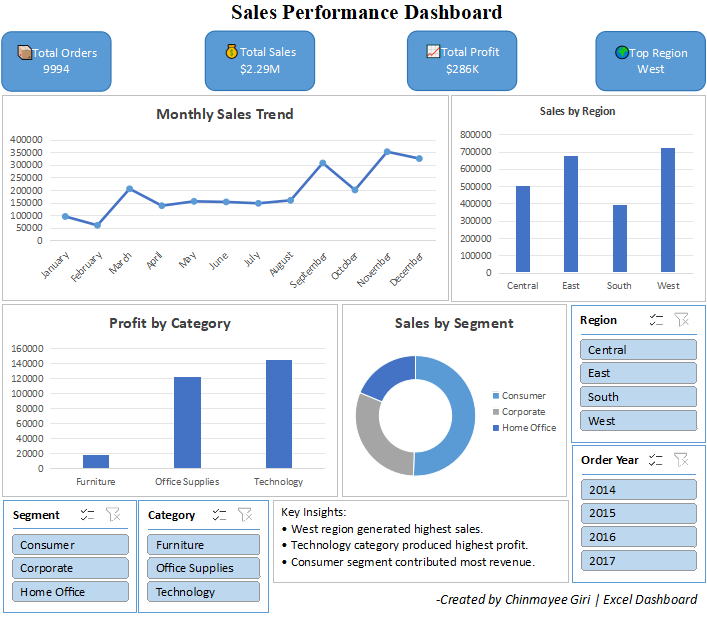

What the dashboard file says about the page in this screenshot:
{"tool":"powerbi","page":{"name":"Page 1","canvas":[1280,720],"ordinal":0},"visuals":[{"type":"card","fields":{"Values":["Sum(Sample - Superstore(NEW).Profit)"]},"box":[10,53.4,200,92],"z":0},{"type":"card","fields":{"Values":["Sum(Sample - Superstore(NEW).Sales)"]},"box":[464.5,53.1,200.3,92.9],"z":1000},{"type":"card","fields":{"Values":["CountNonNull(Sample - Superstore(NEW).Order_ID)"]},"box":[692.5,53.1,200.3,92.9],"z":2000},{"type":"card","fields":{"Values":["Sample - Superstore(NEW).Profit Margin"]},"box":[236.5,53.1,200.3,92.9],"z":3000},{"type":"lineChart","title":"Monthly Sales Trend","fields":{"Category":["Sample - Superstore(NEW).Order_Date.Variation.Date Hierarchy.Month"],"Y":["Sum(Sample - Superstore(NEW).Sales)"]},"box":[5,151.2,487.5,277],"z":4000},{"type":"clusteredBarChart","title":"Sales by Region","fields":{"Category":["Sample - Superstore(NEW).Region"],"Y":["Sum(Sample - Superstore(NEW).Sales)"]},"box":[897.5,330,377.5,205],"z":5000},{"type":"columnChart","title":"Profit by Category","fields":{"Category":["Sample - Superstore(NEW).Category"],"Y":["Sum(Sample - Superstore(NEW).Profit)"]},"box":[896.4,54.3,377,271],"z":6000},{"type":"donutChart","title":"Sales by Segment","fields":{"Category":["Sample - Superstore(NEW).Segment"],"Y":["Sum(Sample - Superstore(NEW).Sales)"]},"box":[375,435,362,280],"z":7000},{"type":"slicer","fields":{"Values":["Sample - Superstore(NEW).Region"]},"box":[742.5,432.5,151.2,147.5],"z":8000},{"type":"slicer","fields":{"Values":["Sample - Superstore(NEW).Category"]},"box":[742.5,585,153.8,130],"z":9000},{"type":"slicer","fields":{"Values":["Sample - Superstore(NEW).Segment"]},"box":[1087.5,540,188.8,147.5],"z":10000},{"type":"slicer","fields":{"Values":["Sample - Superstore(NEW).Order_Year"]},"box":[901.2,540,166.2,147.5],"z":11000},{"type":"textbox","box":[410.2,0,434.3,52],"z":12000},{"type":"scatterChart","title":"Sales vs Profit Analysis","fields":{"X":["Sample - Superstore(NEW).Profit"],"Y":["Sample - Superstore(NEW).Sales"]},"box":[5,435,366.2,280],"z":13000},{"type":"clusteredBarChart","title":"Top 5 Products by Sales","fields":{"Category":["Sample - Superstore(NEW).Product_Name"],"Y":["Sum(Sample - Superstore(NEW).Sales)"]},"box":[497.5,151.2,392.5,276.2],"z":14000},{"type":"textbox","box":[906,688.9,374,31.4],"z":15000}]}

Visuals, with their boxes on the page's 1280x720 design canvas (x1, y1, x2, y2). These are canvas units, not pixel positions in the 707x621 screenshot, which may show the page scaled, cropped or inside an application window:
card - Sum(Sample - Superstore(NEW).Profit): bbox=[10, 53, 210, 145]
card - Sum(Sample - Superstore(NEW).Sales): bbox=[464, 53, 665, 146]
card - CountNonNull(Sample - Superstore(NEW).Order_ID): bbox=[692, 53, 893, 146]
card - Sample - Superstore(NEW).Profit Margin: bbox=[236, 53, 437, 146]
"Monthly Sales Trend" lineChart: bbox=[5, 151, 492, 428]
"Sales by Region" clusteredBarChart: bbox=[898, 330, 1275, 535]
"Profit by Category" columnChart: bbox=[896, 54, 1273, 325]
"Sales by Segment" donutChart: bbox=[375, 435, 737, 715]
slicer - Sample - Superstore(NEW).Region: bbox=[742, 432, 894, 580]
slicer - Sample - Superstore(NEW).Category: bbox=[742, 585, 896, 715]
slicer - Sample - Superstore(NEW).Segment: bbox=[1088, 540, 1276, 688]
slicer - Sample - Superstore(NEW).Order_Year: bbox=[901, 540, 1067, 688]
textbox: bbox=[410, 0, 844, 52]
"Sales vs Profit Analysis" scatterChart: bbox=[5, 435, 371, 715]
"Top 5 Products by Sales" clusteredBarChart: bbox=[498, 151, 890, 427]
textbox: bbox=[906, 689, 1280, 720]
